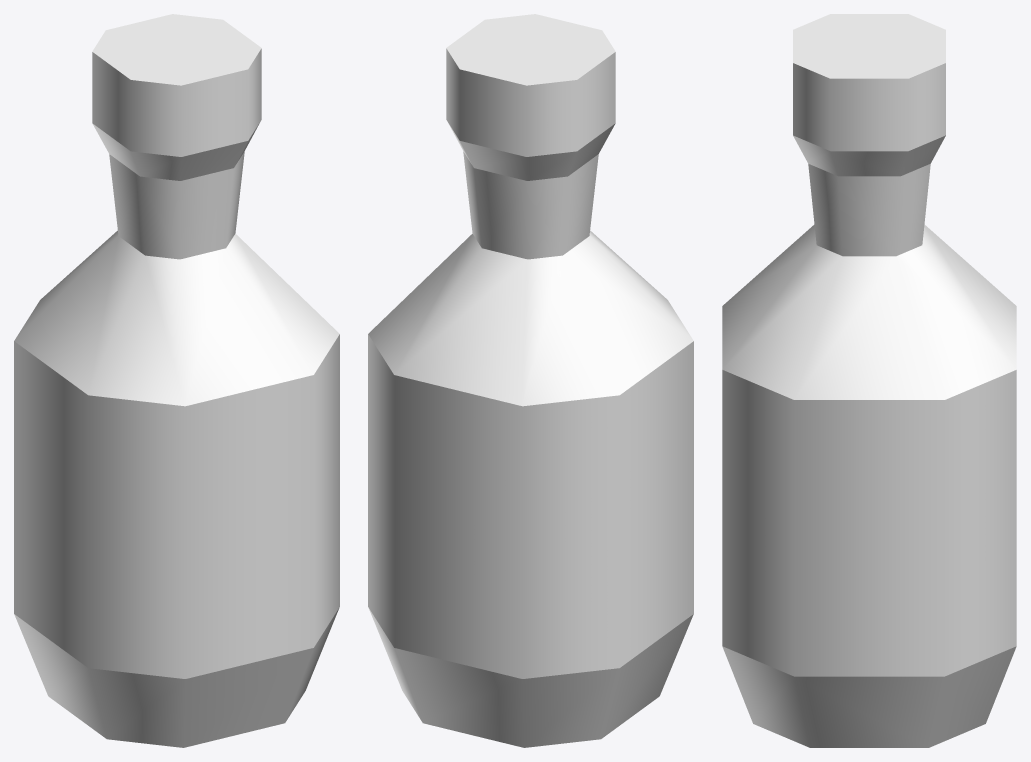
Rendered from bottle.glb.
3 renders of one model, left to right at view 1: azimuth 30°, elevation 25°; view 2: azimuth 150°, elevation 25°; view 3: azimuth 270°, elevation 25°, orthographic.
Parts seen in each view (by area): view 1: bottle; view 2: bottle; view 3: bottle.
Boxes of the visible parts, left/top/right/bottom form: bottle: left=14, top=14, right=339, bottom=747; bottle: left=368, top=14, right=693, bottom=747; bottle: left=722, top=14, right=1016, bottom=747.
Bounding box in the file's own units: 0.3643 × 0.8905 × 0.3643.
1 material, 1 textured.
